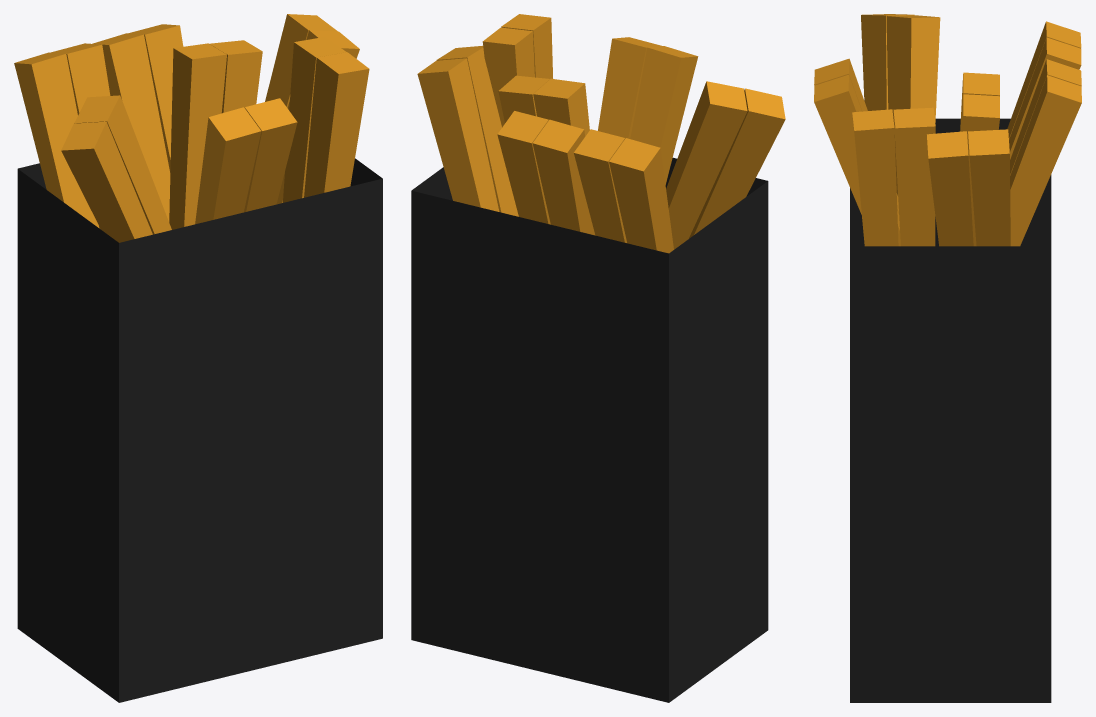
Rendered from 箸置き.fbx.
3 renders of one model, left to right at view 1: azimuth 30°, elevation 25°; view 2: azimuth 150°, elevation 25°; view 3: azimuth 270°, elevation 25°, orthographic. The views are drawn at different scales.
Visible parts, largest first — view 1: Cube.010; view 2: Cube.010; view 3: Cube.010.
Part boxes in pixels (x1,y1,x2,y2): Cube.010: [14, 14, 382, 702]; Cube.010: [411, 14, 785, 702]; Cube.010: [814, 14, 1081, 702].
Bounding box in the file's own units: 362 × 627 × 266.
